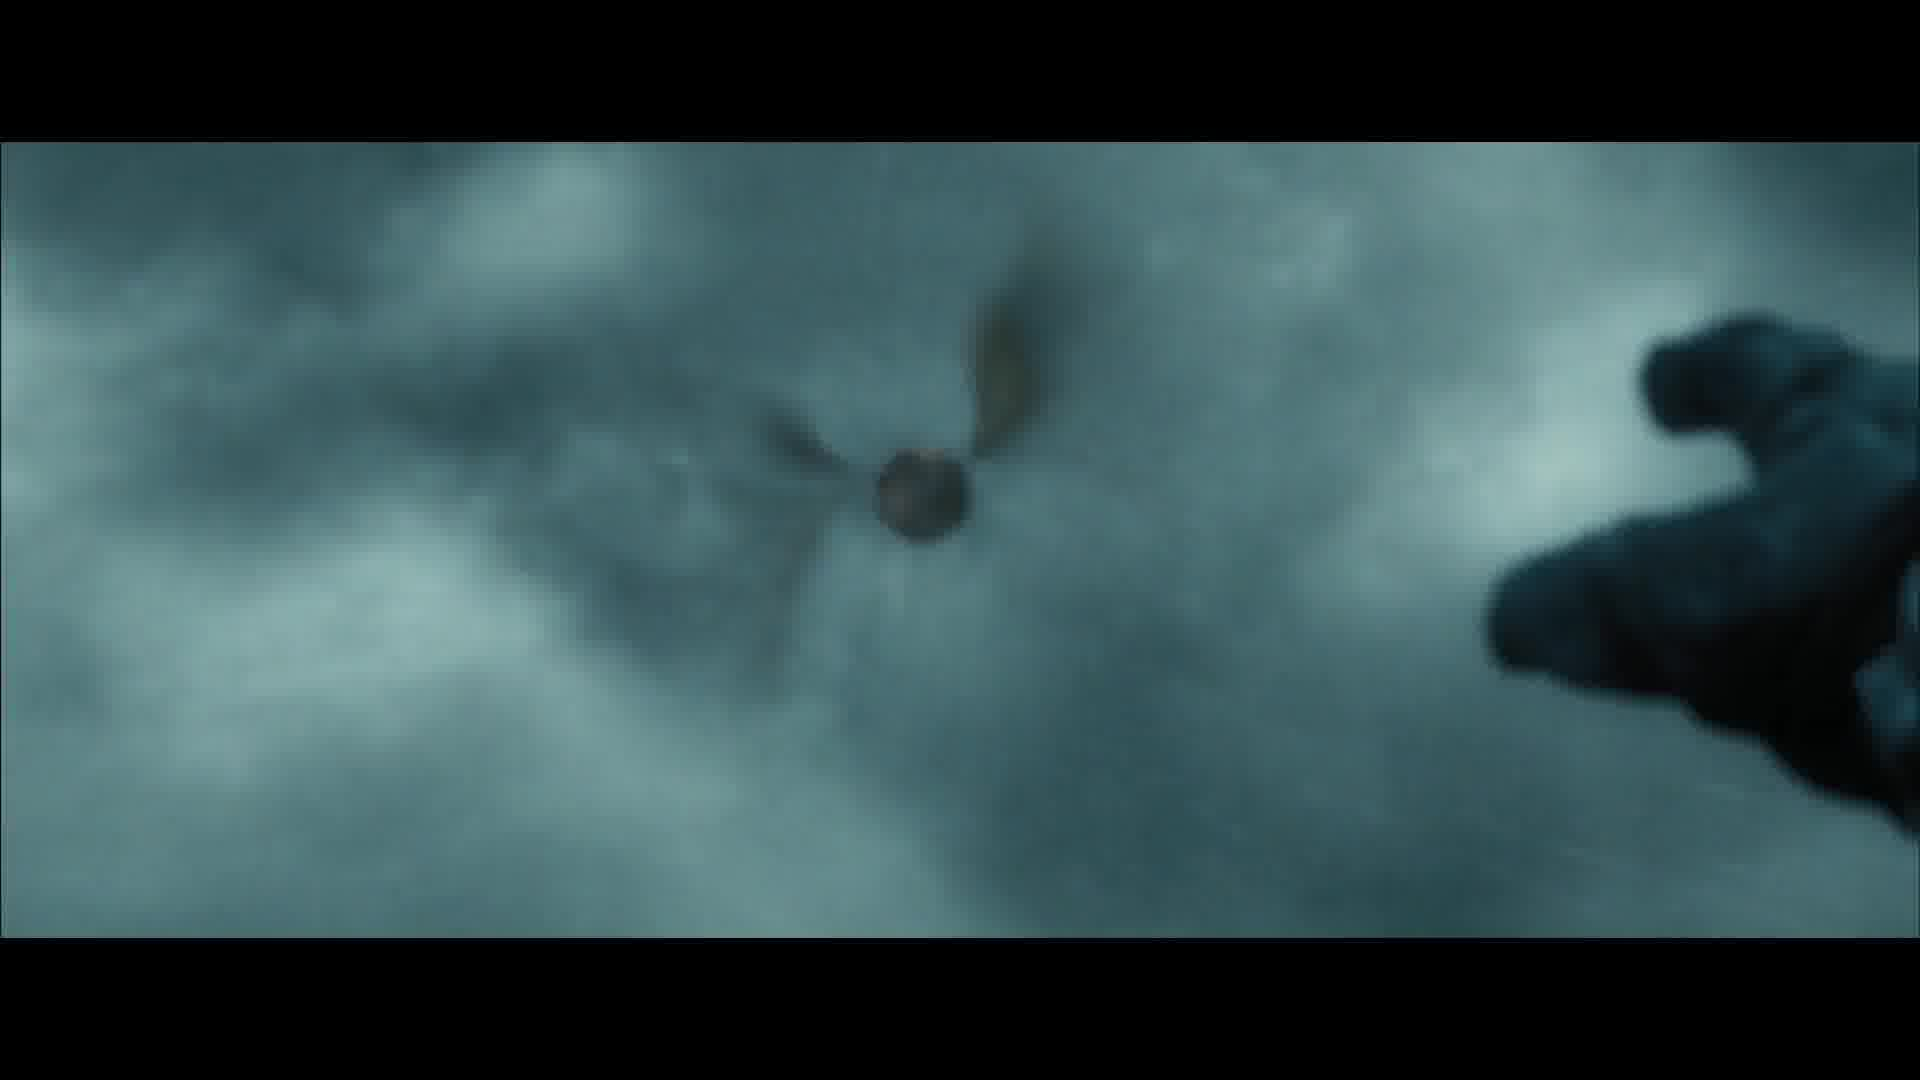snitch: (872, 444, 978, 547)
